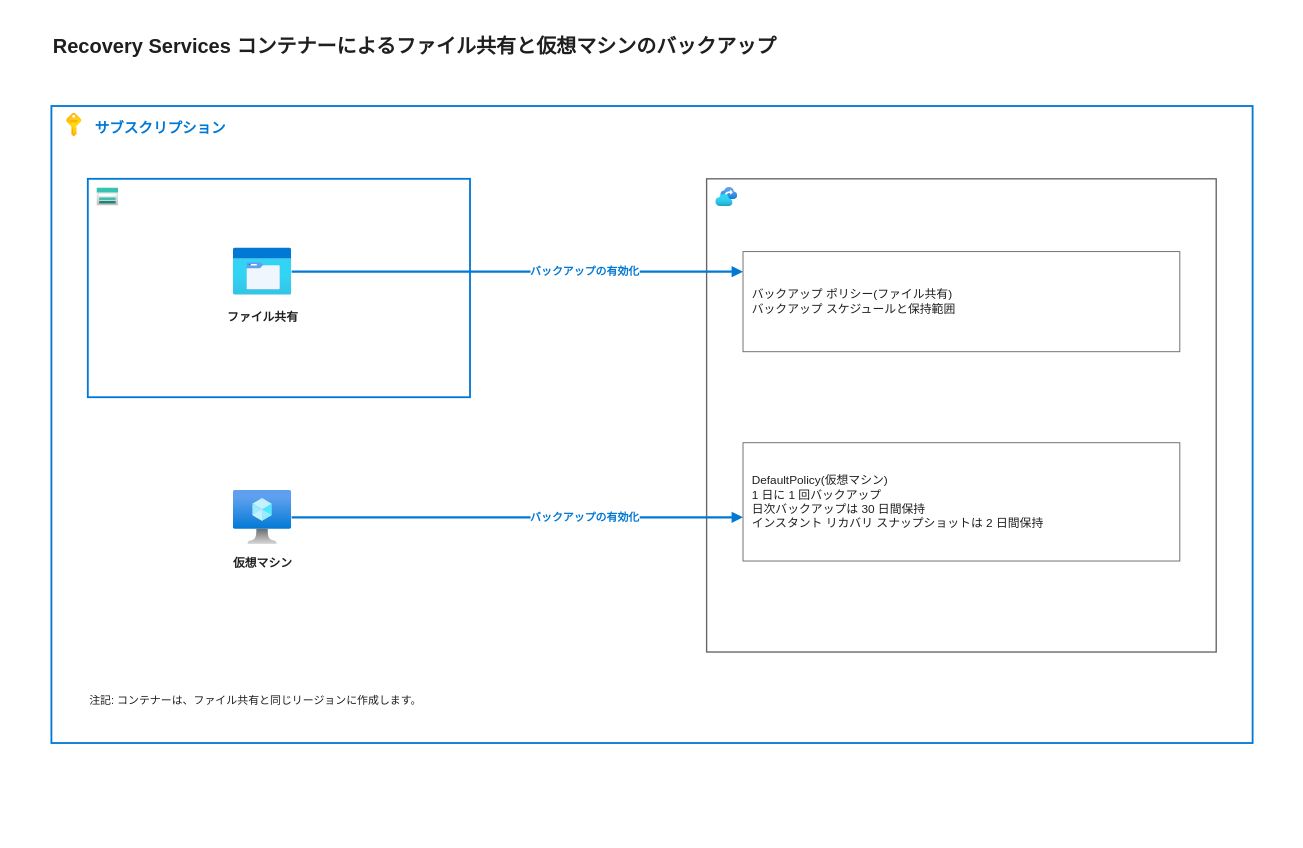
The diagram is 1303 pixels wide and 848 high, and some of its shapes have lost their labels. Here are the shapes that lost their labels. From the top down, the box of each, then its label:
(86, 177, 470, 398): ストレージ アカウント
(706, 178, 1216, 652): Recovery Services コンテナー
